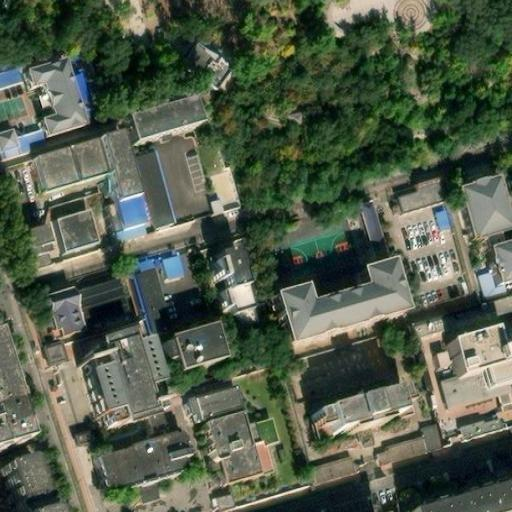building: (282, 258, 412, 339), (91, 323, 171, 427), (100, 429, 195, 488), (27, 54, 93, 136), (206, 409, 279, 481), (127, 249, 183, 336), (44, 279, 123, 337), (414, 294, 512, 338), (310, 390, 403, 434), (37, 138, 110, 189), (133, 92, 207, 137), (135, 149, 176, 227), (464, 174, 512, 238), (178, 34, 233, 86), (108, 126, 146, 198), (376, 423, 442, 463), (444, 372, 512, 409), (445, 334, 499, 380), (178, 320, 230, 367), (1, 462, 46, 512), (358, 196, 390, 264), (200, 162, 241, 212), (219, 235, 258, 286), (192, 386, 243, 421), (400, 175, 449, 211), (108, 193, 153, 231), (0, 127, 50, 161), (0, 167, 31, 221), (20, 224, 56, 269), (58, 209, 98, 249), (309, 456, 356, 483), (484, 345, 512, 389), (448, 494, 512, 512), (461, 414, 505, 439), (229, 279, 259, 310), (493, 239, 512, 281), (478, 272, 506, 300), (70, 423, 95, 445), (209, 491, 235, 512), (44, 341, 68, 363), (435, 353, 451, 371), (437, 212, 449, 230)
